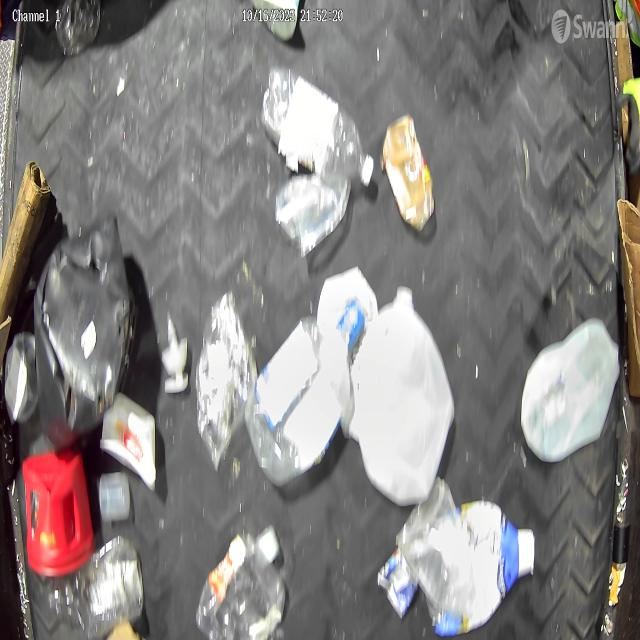can: (376, 544, 420, 620)
milk_jug: (348, 284, 457, 508), (518, 318, 621, 468)
non_white_jug: (31, 208, 140, 452)
plastic_bottle: (241, 294, 366, 491), (261, 63, 376, 189), (50, 532, 146, 640)
